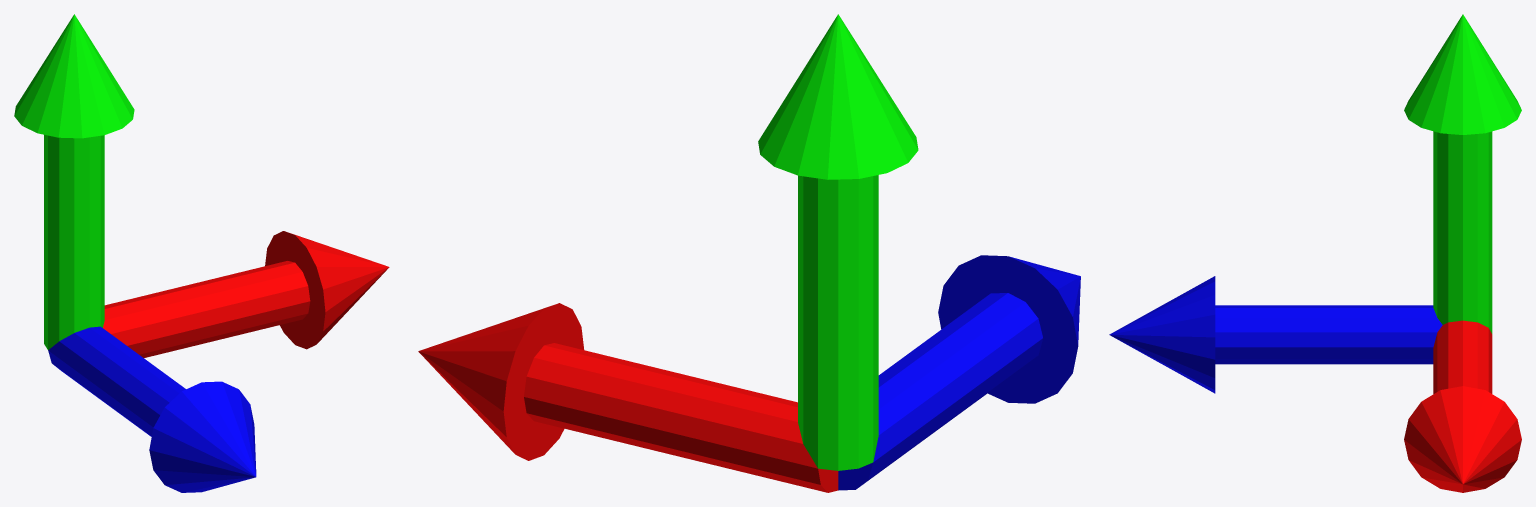
The model's file is nil_link_mesh.dae.
The picture shows the model from 3 angles, left to right: view 1: azimuth 30°, elevation 25°; view 2: azimuth 150°, elevation 25°; view 3: azimuth 270°, elevation 25°; orthographic projection. The views are drawn at different scales.
Parts seen in each view (by area): view 1: nil_link (×6); view 2: nil_link (×6); view 3: nil_link (×6).
Part boxes in pixels (x1=…): nil_link (×6): x1=14, y1=14, x2=389, y2=492; nil_link (×6): x1=418, y1=14, x2=1080, y2=492; nil_link (×6): x1=1109, y1=14, x2=1521, y2=492.
Size of the model in its own units: 0.2333 by 0.2333 by 0.2333.
